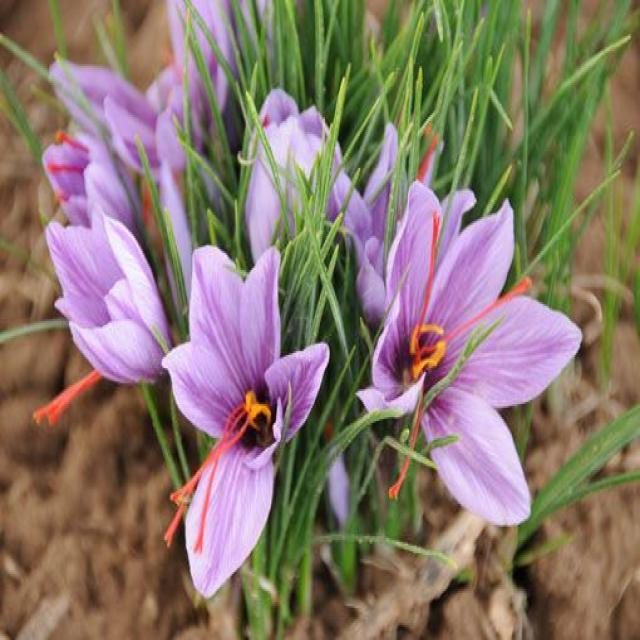Flower: (358, 182, 582, 524), (162, 248, 328, 595)
stigma: (162, 387, 270, 568), (443, 268, 532, 346), (409, 197, 445, 378), (31, 366, 101, 440)
